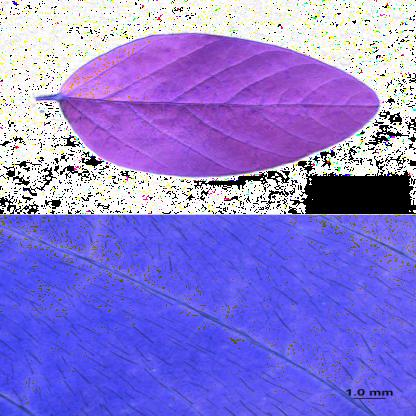soybean leaf: (30, 24, 392, 188)
